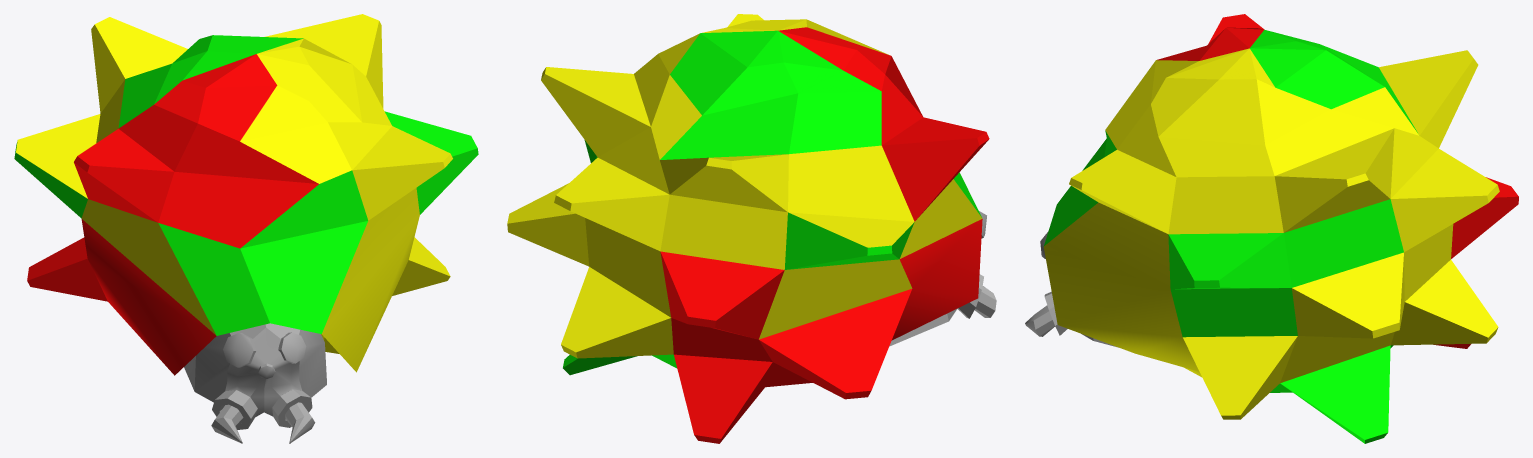
File: volcano boss.fbx
3 renders of one model, left to right at view 1: azimuth 30°, elevation 25°; view 2: azimuth 150°, elevation 25°; view 3: azimuth 270°, elevation 25°, orthographic. The views are drawn at different scales.
Visible parts, largest first — view 1: third, second, first, polySurface21, polySurface25, polySurface26, polySurface23, polySurface24; view 2: third, second, first, polySurface25, polySurface21; view 3: third, first, second, polySurface26.
Boxes of the visible parts, x1,y1,x2,y2 form: third: (16,14,452,372); second: (27,54,318,375); first: (14,35,478,335); polySurface21: (184,323,326,416); polySurface25: (211,390,257,443); polySurface26: (272,389,315,443); polySurface23: (223,332,255,367); polySurface24: (278,332,306,363); third: (507,14,982,358); second: (660,27,989,443); first: (563,30,981,375); polySurface25: (957,274,996,318); polySurface21: (889,308,957,346); third: (1043,48,1499,419); first: (1043,29,1417,443); second: (1157,14,1518,348); polySurface26: (1025,291,1067,336).
Bounding box in the file's own units: 2514 × 1900 × 2620.
